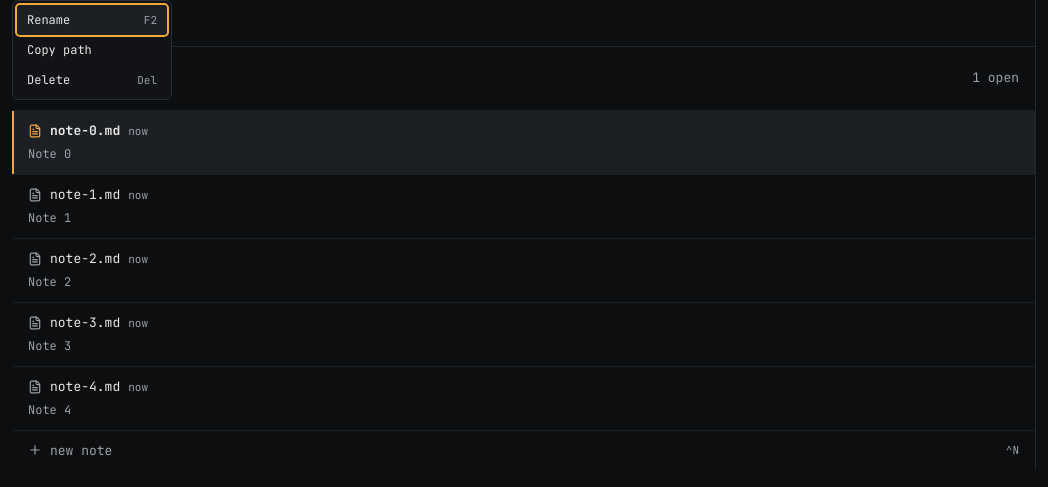
Test: ListPane context menu › closes on a click outside without moving focus back
Step 1. Click the button "new note ^N" → (81, 450), box [12,430,1035,470]
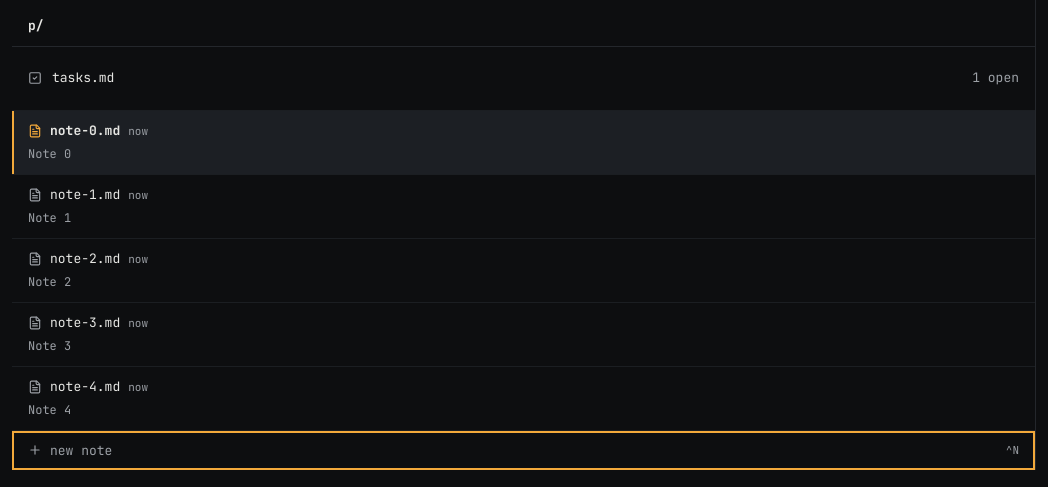
Now the menu is gone
